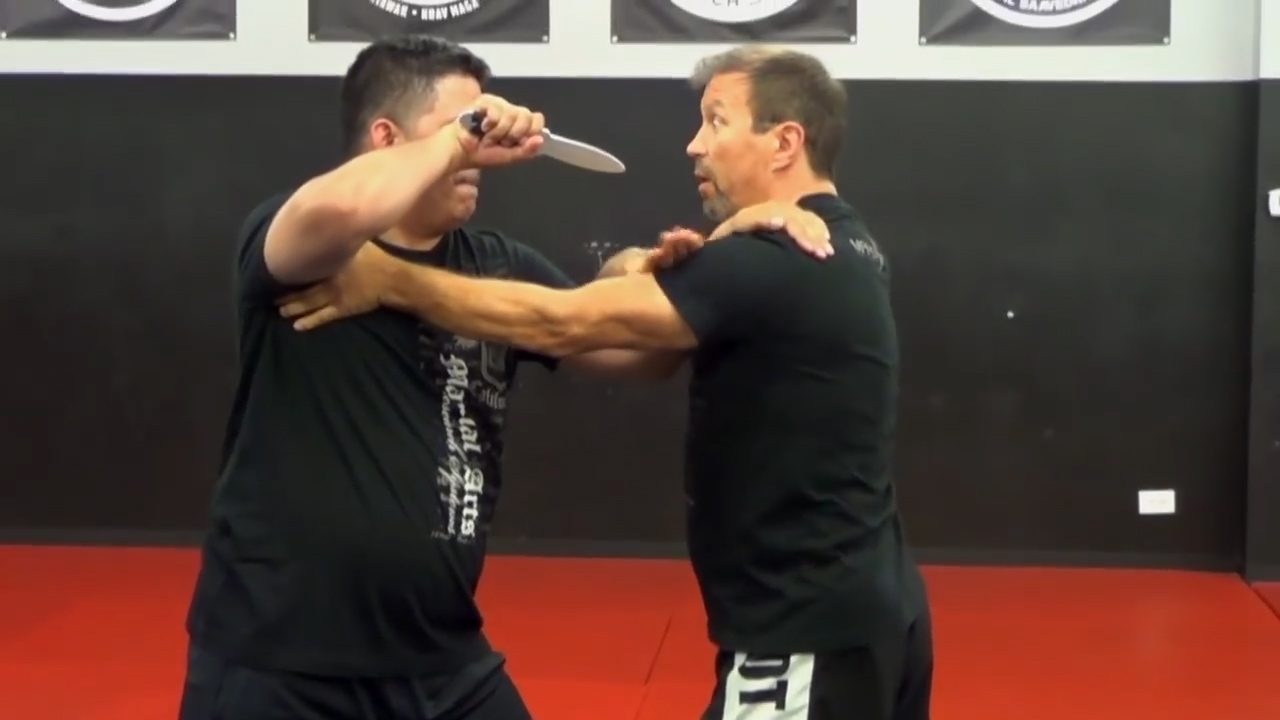knife: (453, 87, 634, 185)
